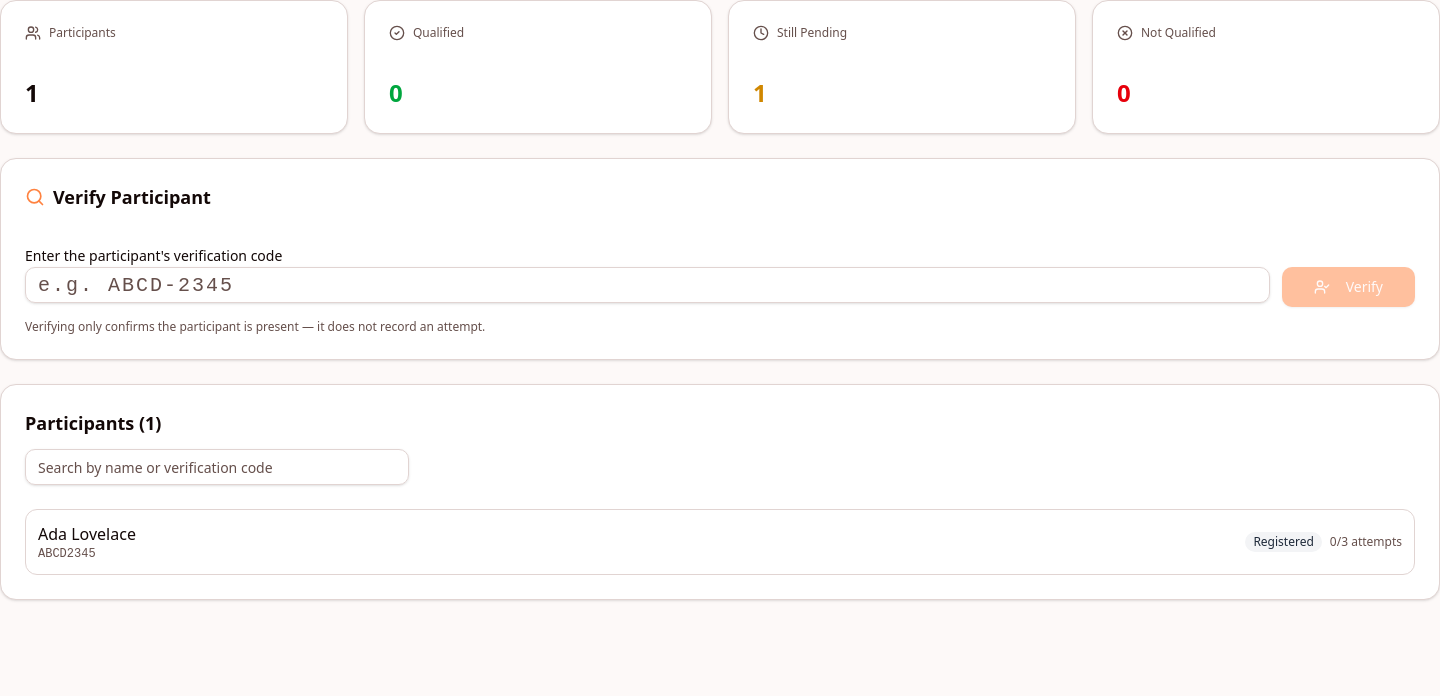
T-REM-3: ParticipantManager remove/ban › surfaces a server removal error (e.g. checked in)
Click the button "Ada Lovelace ABCD2345 Registered 0/3 attempts".
click(87, 534)  # box [25,509,1415,575]
(page scrolled)
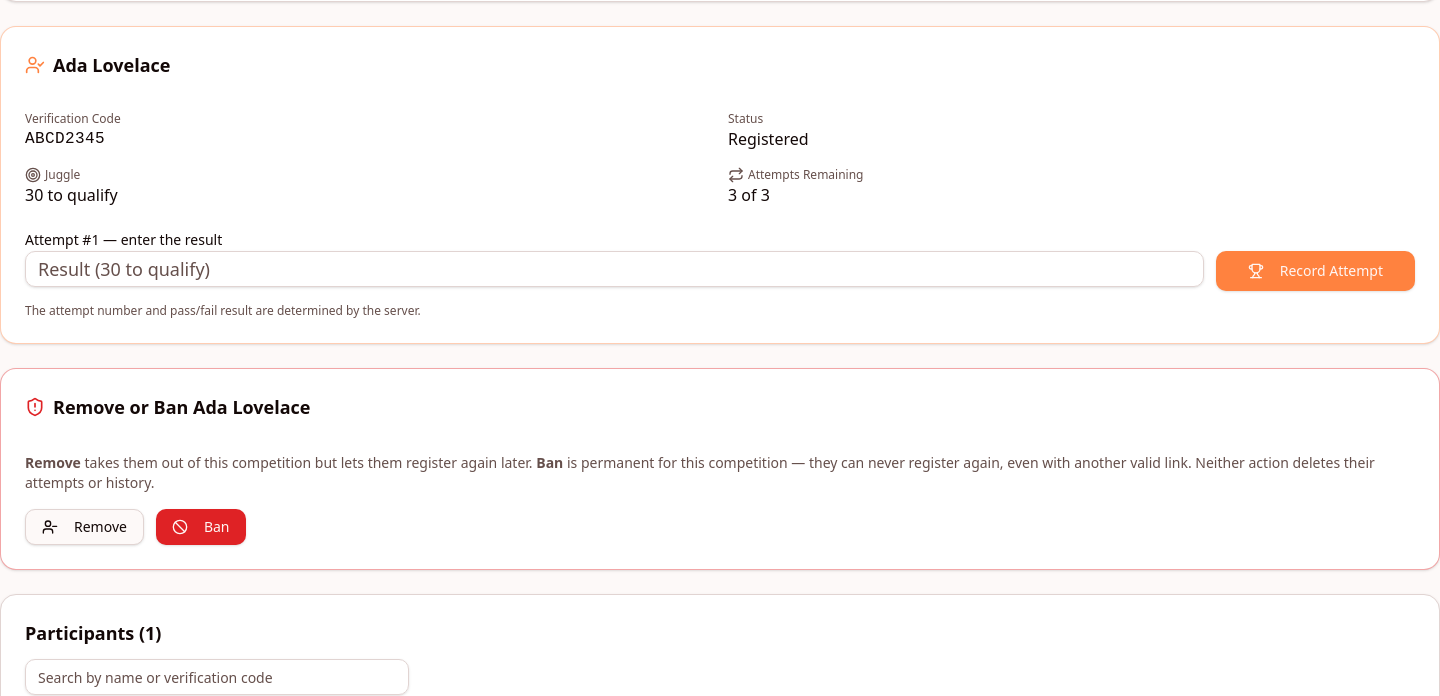
Click the button "Remove".
click(84, 527)  # box [25,509,144,545]
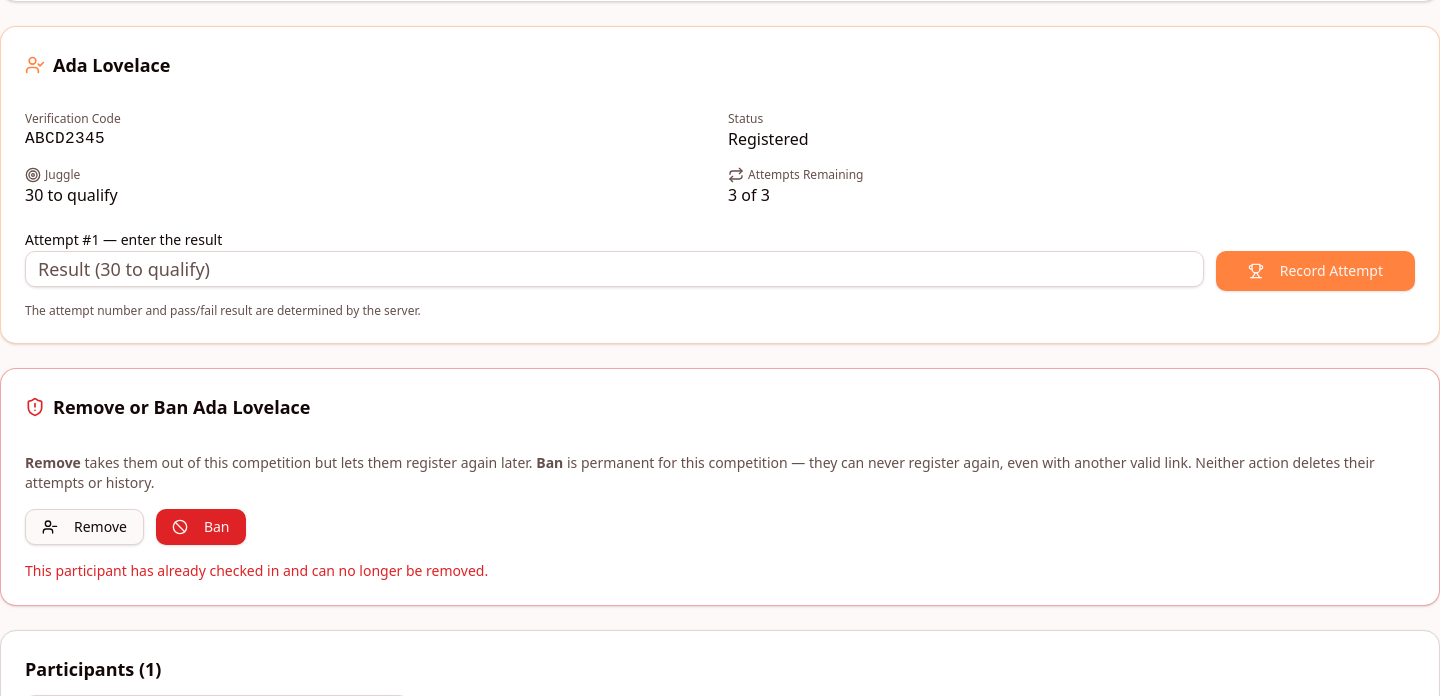
Check: the text "already checked in and can no longer be removed" is shown, box [25,561,488,580]
